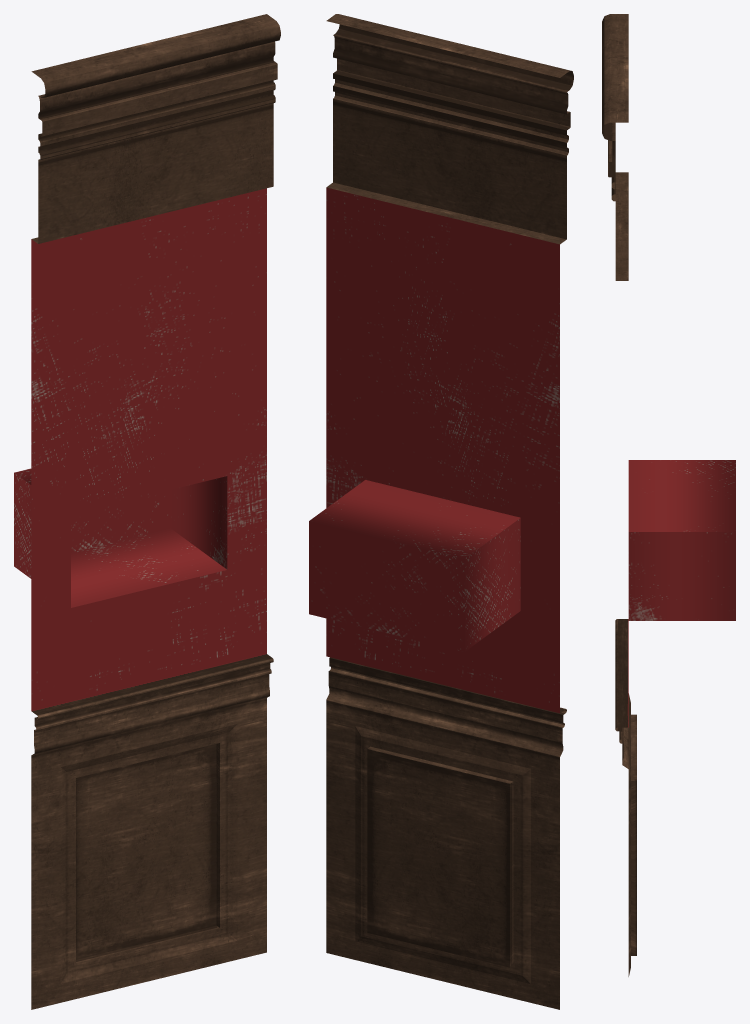
The model's file is SM_Wall_2_001.fbx.
The picture shows the model from 3 angles, left to right: view 1: azimuth 30°, elevation 25°; view 2: azimuth 150°, elevation 25°; view 3: azimuth 270°, elevation 25°; orthographic projection. The views are drawn at different scales.
Parts seen in each view (by area): view 1: cheminé:cheminé:mur_type_2; view 2: cheminé:cheminé:mur_type_2; view 3: cheminé:cheminé:mur_type_2.
Part boxes in pixels (<box>): cheminé:cheminé:mur_type_2: <box>14,14,280,1009</box>; cheminé:cheminé:mur_type_2: <box>309,14,573,1009</box>; cheminé:cheminé:mur_type_2: <box>602,14,735,976</box>.
Bounding box in the file's own units: 147 × 560 × 76.49.
